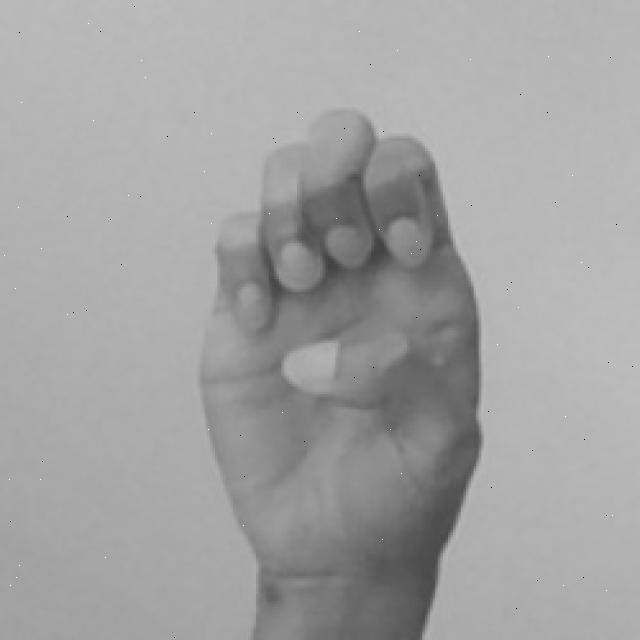E: (197, 102, 489, 640)
